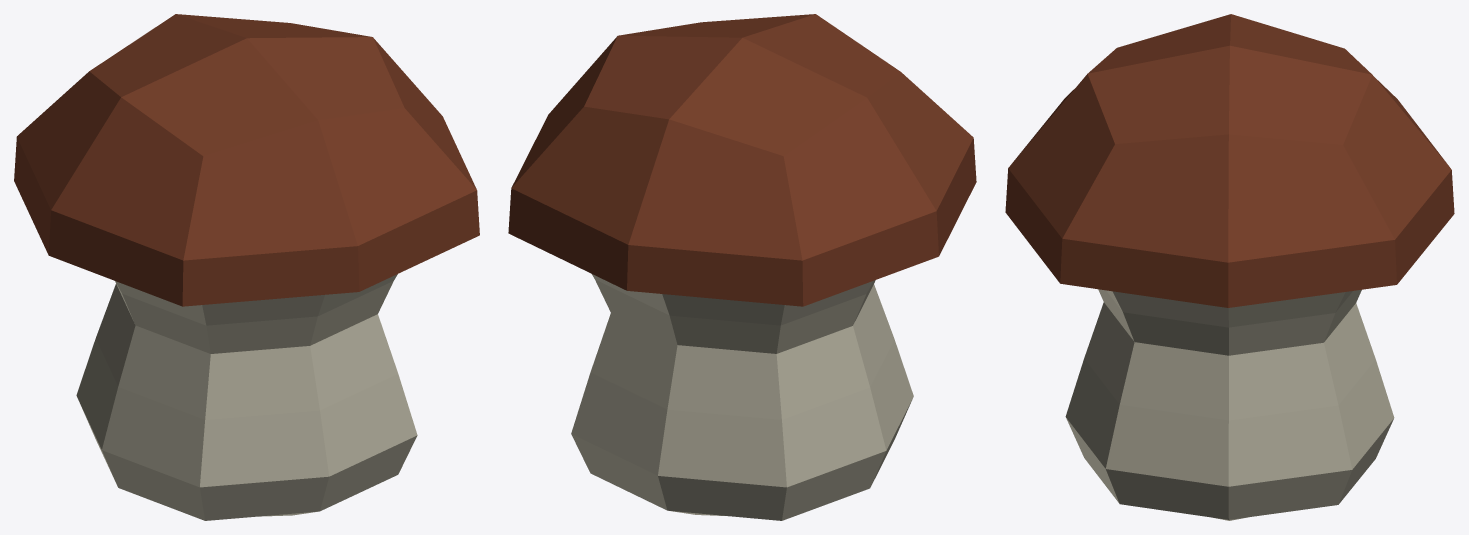
The model's file is mushroom_1.glb.
3 views of the same model, side by side, from view 1: azimuth 30°, elevation 25°; view 2: azimuth 150°, elevation 25°; view 3: azimuth 270°, elevation 25° (orthographic).
Visible parts, largest first — view 1: Mushroom_1; view 2: Mushroom_1; view 3: Mushroom_1.
Part boxes in pixels (<box>): Mushroom_1: <box>14,14,479,520</box>; Mushroom_1: <box>508,14,976,520</box>; Mushroom_1: <box>1005,14,1454,520</box>.
Bounding box in the file's own units: 0.1085 × 0.1186 × 0.1085.
